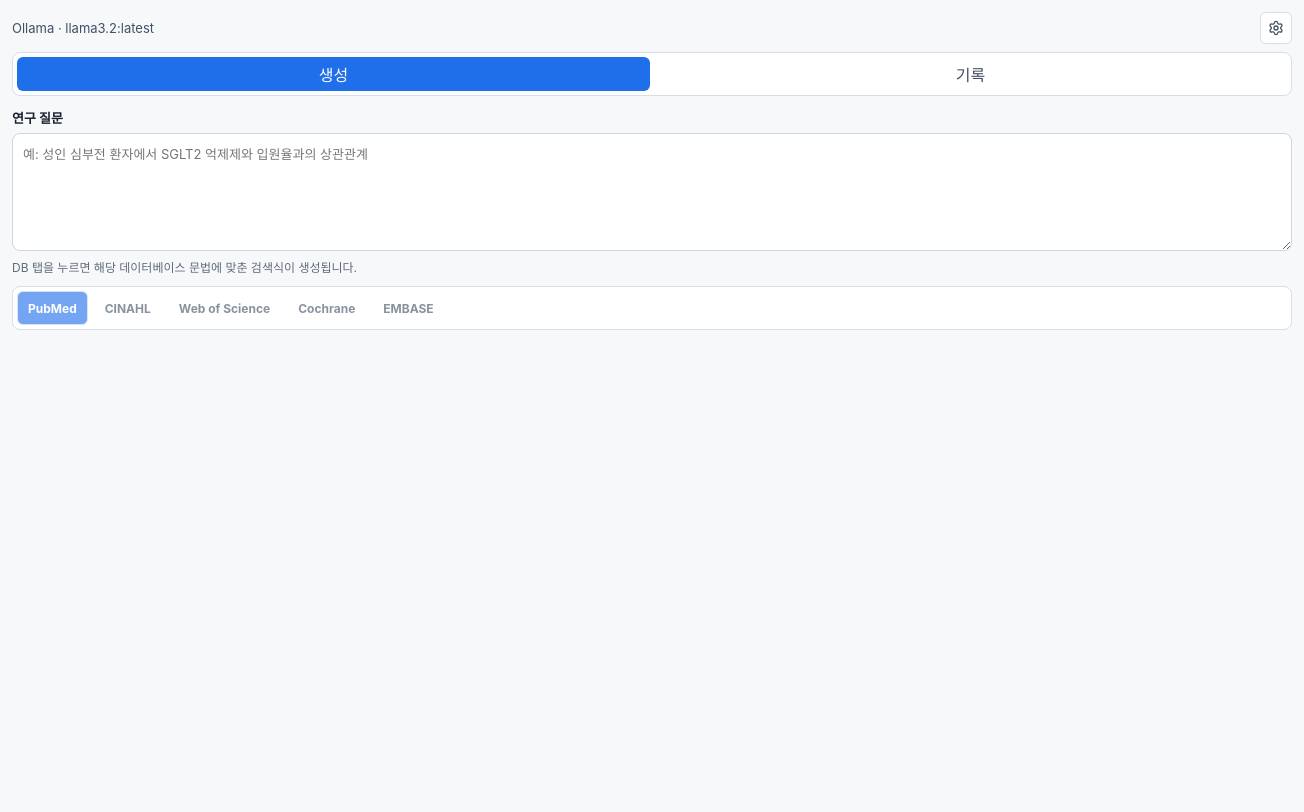
Scenario: Generator › shows database-specific result guidance and review checklist heading
Type "간호사 교대근무와 수면의 질" into the text box labelled "연구 질문" at (652, 192), box 12,133 -> 1292,251
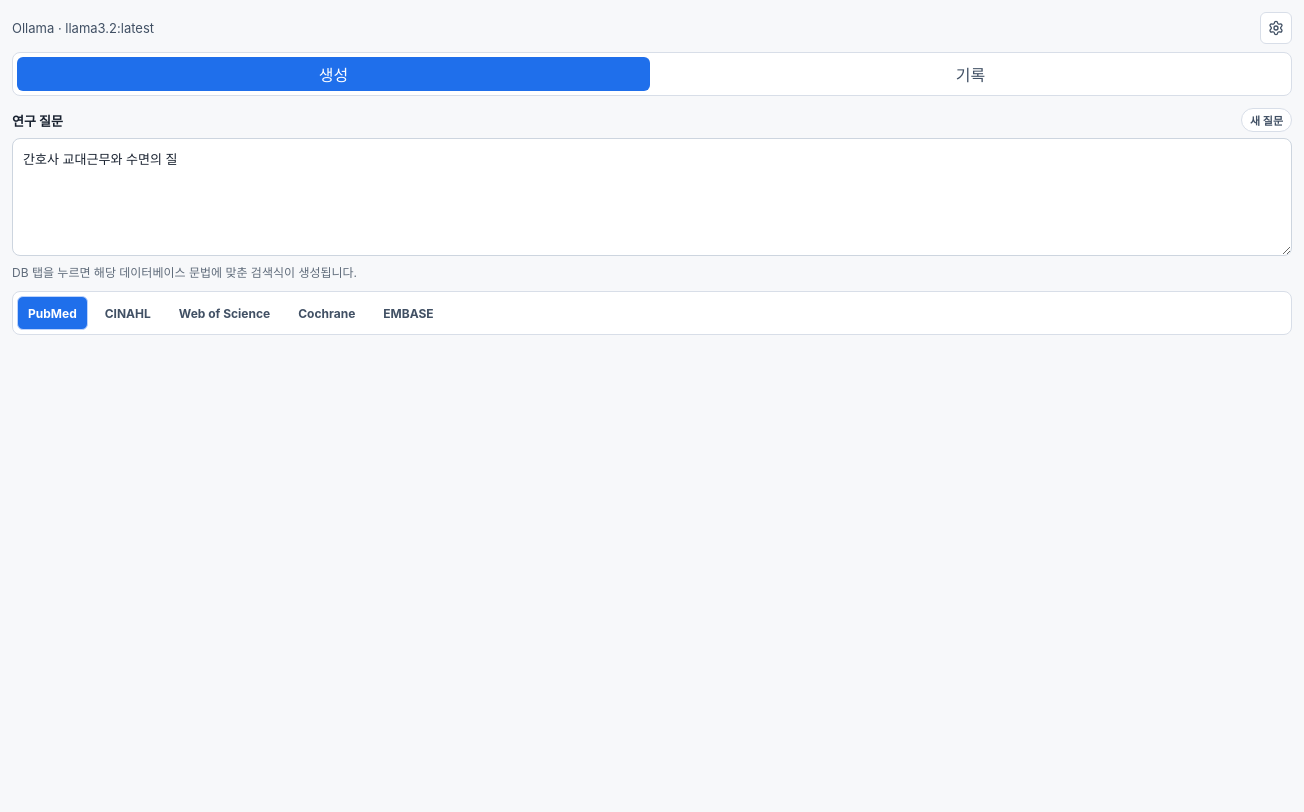
Click the tab "Web of Science" at (224, 313), box 168,296 -> 281,330
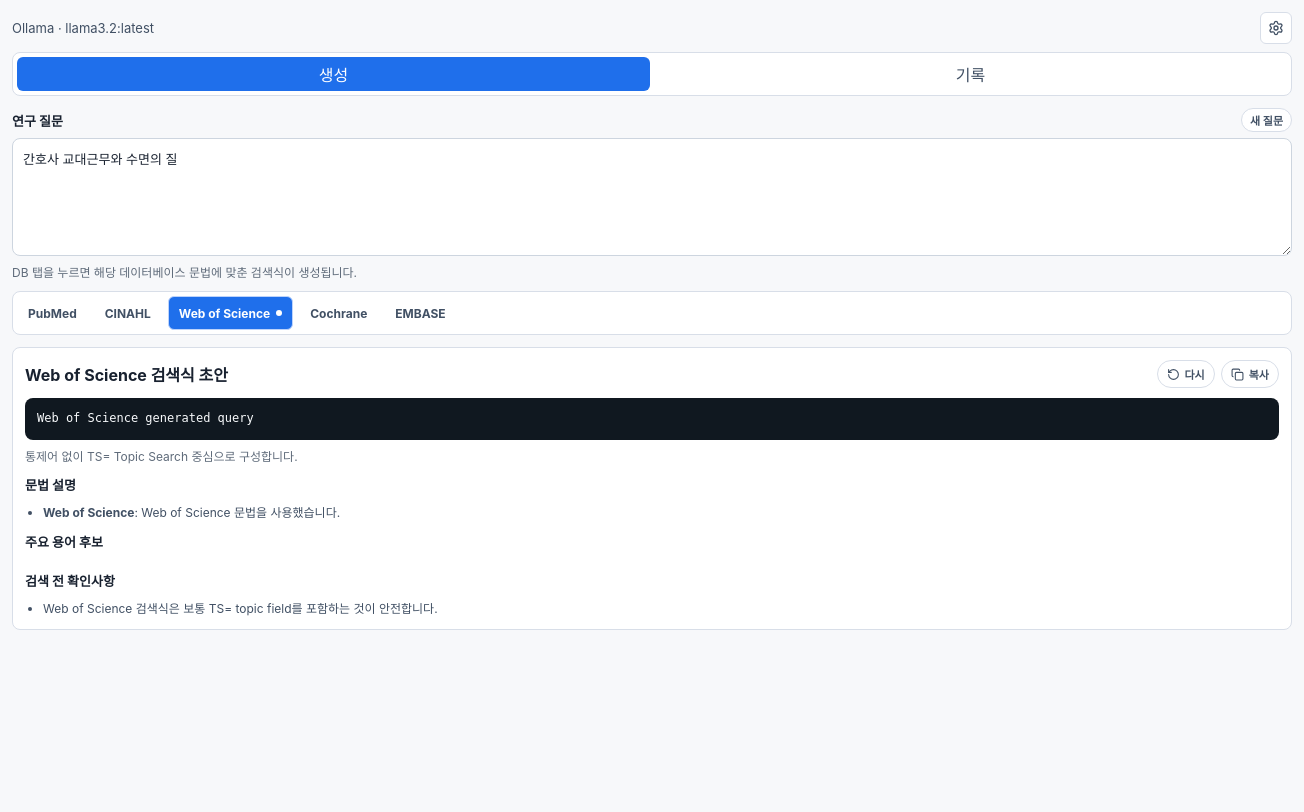
Result: the text "Web of Science generated query" is shown at 25,398 -> 1279,440
Result: the text "통제어 없이 TS= Topic Search 중심으로 구성합니다." is shown at 25,449 -> 298,464
Result: the heading "검색 전 확인사항" is shown at 25,573 -> 115,589
